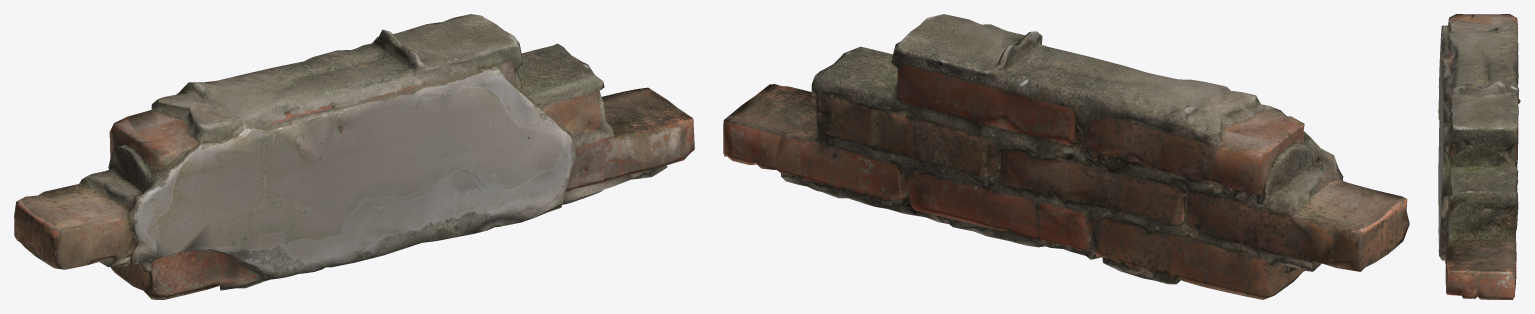
Rendered from PX_Brick_Ruins_10_LOD4.fbx.
3 renders of one model, left to right at view 1: azimuth 30°, elevation 25°; view 2: azimuth 150°, elevation 25°; view 3: azimuth 270°, elevation 25°, orthographic. The views are drawn at different scales.
Visible parts, largest first — view 1: PX_Brick_Ruins_10_LOD4; view 2: PX_Brick_Ruins_10_LOD4; view 3: PX_Brick_Ruins_10_LOD4.
Boxes of the visible parts, x1=… form: PX_Brick_Ruins_10_LOD4: x1=14, y1=14, x2=694, y2=299; PX_Brick_Ruins_10_LOD4: x1=723, y1=14, x2=1409, y2=299; PX_Brick_Ruins_10_LOD4: x1=1438, y1=14, x2=1520, y2=299.
Bounding box in the file's own units: 89.7 × 25.73 × 13.93.
